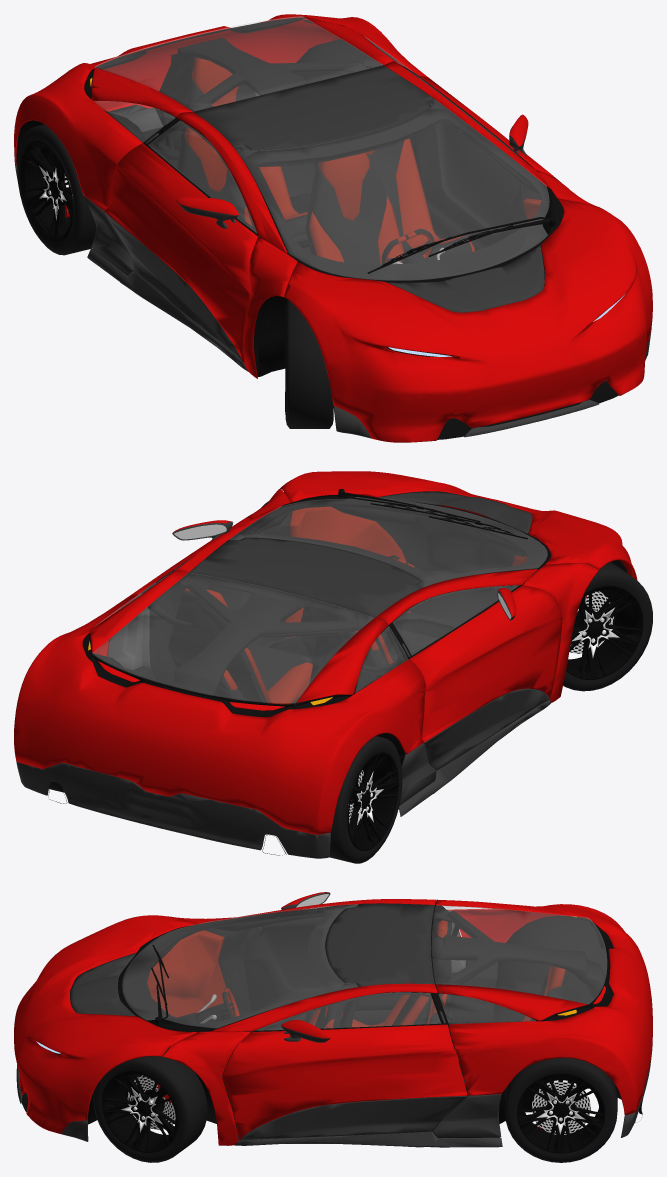
File: kestrel.glb
The picture shows the model from 3 angles, top to bottom: view 1: azimuth 30°, elevation 25°; view 2: azimuth 150°, elevation 25°; view 3: azimuth 270°, elevation 25°; orthographic projection. The views are drawn at different scales.
Visible parts, largest first — view 1: BodyHood, BodyWindshield, BodyRearPanelsColor1, BodyRearwindow, BodyDoorRColor1, BodyRoofPanel, BodyWindshieldGasket, InteriorSeatsColor1, InteriorDoorL01, InteriorSeatsColor2, BodyPillars, InteriorPillar (+15 smaller); view 2: BodyRearPanelsColor1, BodyRearwindow, BodyWindshield, BodyPanelsColor2, BodyDoorRColor1, BodyRoofPanel, InteriorPillar, BodyHood, InteriorDashMid, BodyPillars, BodyWindshieldGasket, WheelFrontRRim (+18 smaller); view 3: BodyRearPanelsColor1, BodyWindshield, BodyDoorLColor1, BodyHood, BodyRearwindow, BodyRoofPanel, BodyPillars, InteriorFloor, InteriorDoorR01, BodyWindshieldGasket, BodyDoorLColor2, BodyPanelsColor2 (+20 smaller).
Part boxes in pixels (x1,y1,x2,y2): BodyHood: [284, 198, 652, 442]; BodyWindshield: [234, 98, 549, 280]; BodyRearPanelsColor1: [14, 14, 429, 211]; BodyRearwindow: [95, 16, 382, 111]; BodyDoorRColor1: [104, 143, 257, 363]; BodyRoofPanel: [194, 65, 432, 150]; BodyWindshieldGasket: [234, 99, 563, 282]; InteriorSeatsColor1: [185, 57, 475, 264]; InteriorDoorL01: [409, 78, 526, 248]; InteriorSeatsColor2: [180, 78, 472, 264]; BodyPillars: [176, 61, 599, 378]; InteriorPillar: [155, 37, 435, 168]; BodyRearPanelsColor1: [14, 569, 425, 834]; BodyRearwindow: [92, 573, 373, 703]; BodyWindshield: [229, 497, 547, 587]; BodyPanelsColor2: [16, 700, 550, 858]; BodyDoorRColor1: [409, 585, 562, 742]; BodyRoofPanel: [189, 537, 422, 617]; InteriorPillar: [171, 574, 417, 701]; BodyHood: [277, 471, 637, 579]; InteriorDashMid: [331, 502, 528, 622]; BodyPillars: [173, 489, 598, 702]; BodyWindshieldGasket: [230, 497, 550, 587]; WheelFrontRRim: [566, 585, 643, 679]; BodyRearPanelsColor1: [436, 899, 652, 1115]; BodyWindshield: [122, 904, 357, 1028]; BodyDoorLColor1: [222, 1024, 467, 1140]; BodyHood: [14, 915, 196, 1133]; BodyRearwindow: [432, 905, 606, 1003]; BodyRoofPanel: [326, 903, 434, 986]; BodyPillars: [163, 899, 437, 1145]; InteriorFloor: [19, 915, 642, 1143]; InteriorDoorR01: [244, 910, 466, 1013]; BodyWindshieldGasket: [118, 905, 357, 1032]; BodyDoorLColor2: [240, 1096, 467, 1140]; BodyPanelsColor2: [16, 1007, 652, 1147].
Bounding box in the file's own units: 2.54 × 1.15 × 4.36.
Materials: 21 (1 with a texture image).
